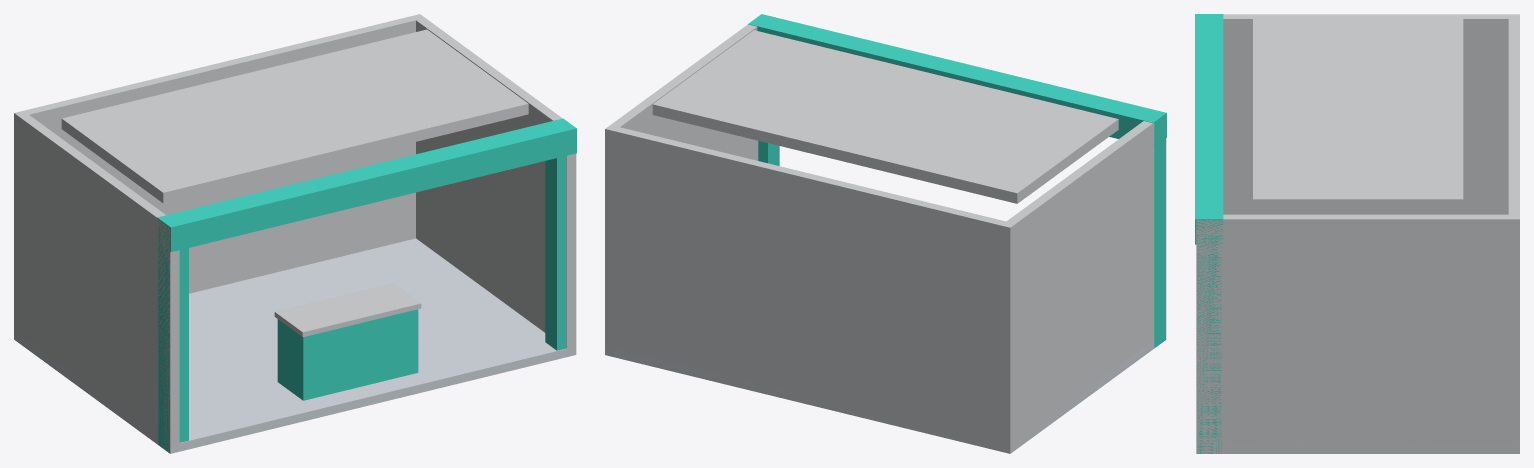
3 views of the same model, side by side, from view 1: azimuth 30°, elevation 25°; view 2: azimuth 150°, elevation 25°; view 3: azimuth 270°, elevation 25° (orthographic). The views are drawn at different scales.
Visible parts, largest first — view 1: Exhibition Booth Concept; view 2: Exhibition Booth Concept; view 3: Exhibition Booth Concept.
Part boxes in pixels (<box>): Exhibition Booth Concept: <box>14,14,576,453</box>; Exhibition Booth Concept: <box>605,14,1166,453</box>; Exhibition Booth Concept: <box>1195,14,1519,453</box>.
Bounding box in the file's own units: 6 × 3.34 × 4.02.
